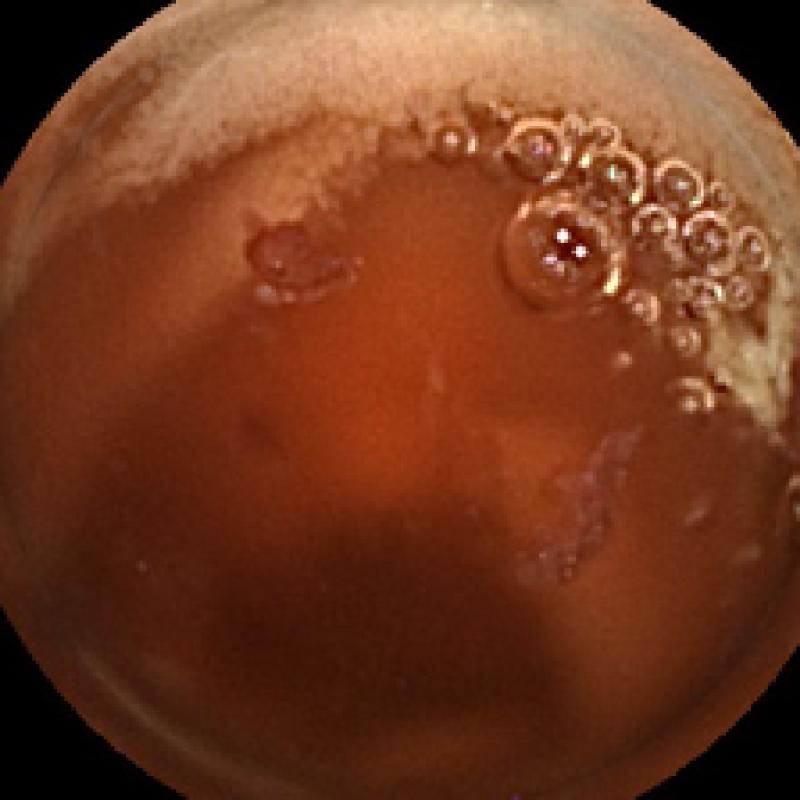bleeding: (485, 422, 651, 596), (239, 222, 379, 307)
